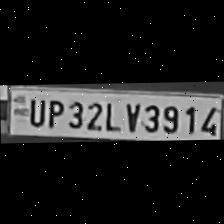1: (178, 102, 196, 134)
2: (83, 99, 103, 130)
3: (63, 97, 83, 128), (140, 101, 160, 132)
4: (196, 102, 218, 134)
9: (158, 102, 180, 132)
L: (100, 98, 120, 132)
P: (43, 96, 63, 128)
U: (24, 96, 46, 127)
V: (121, 99, 141, 132)
